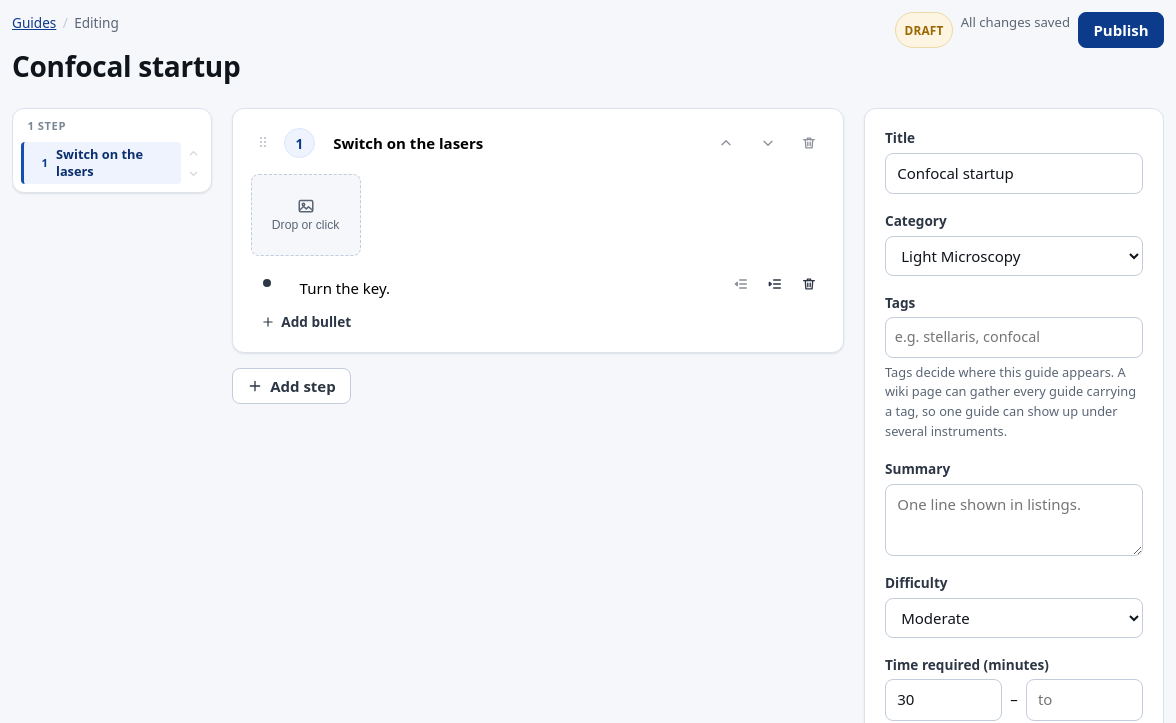
Scenario: GuideEditorPage › warns instead of overwriting when a colleague saved first
Type " Then wait." into the text box with placeholder "Describe what to do…" at (504, 288), box [290, 270, 718, 306]
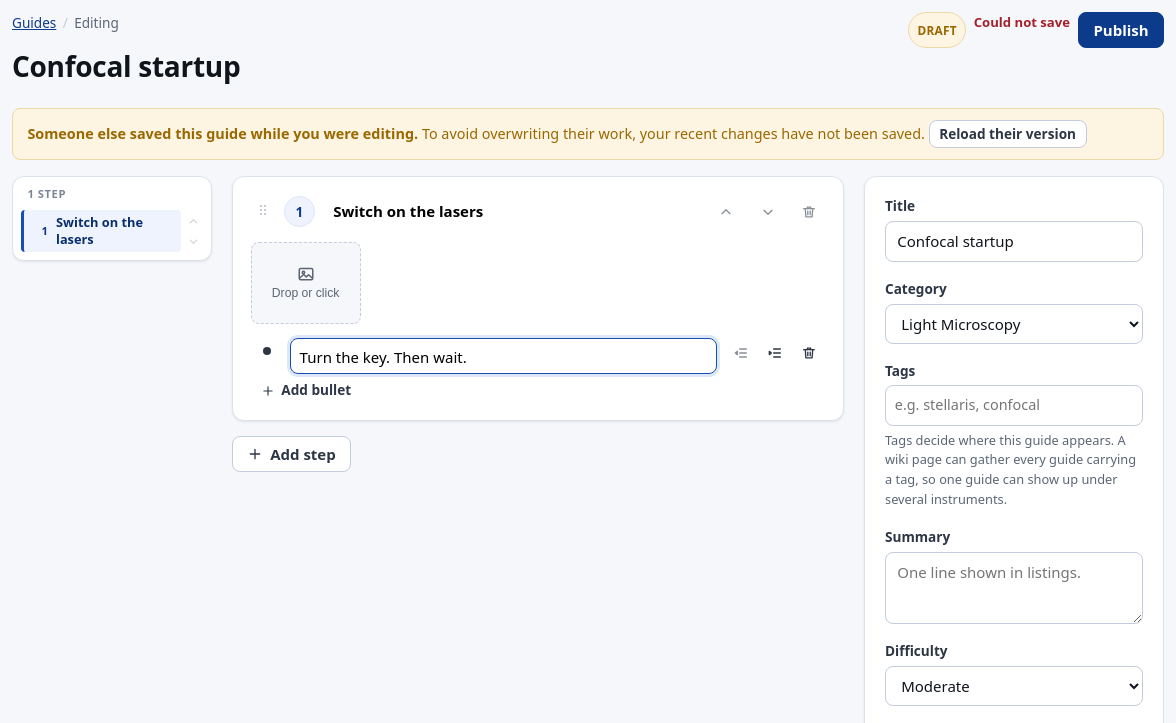
Result: the text "Someone else saved this guide while you were editing." is shown at [27, 124, 418, 143]
